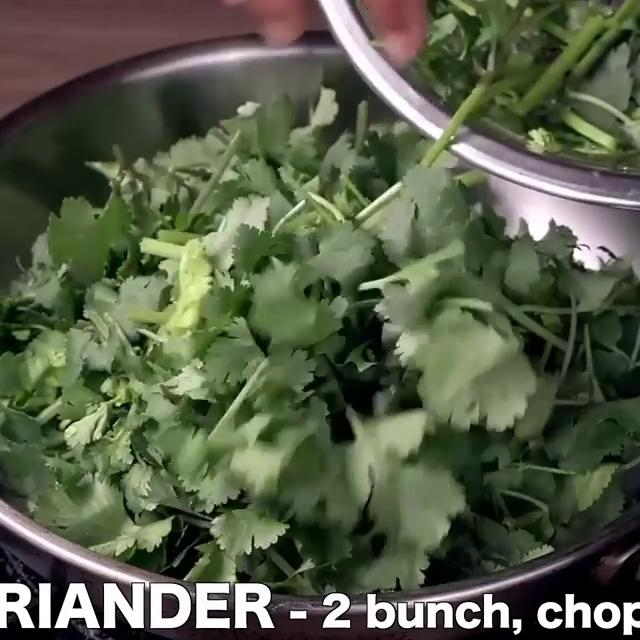cilantro: (33, 136, 640, 560)
